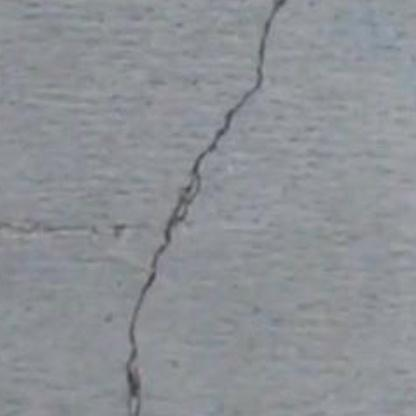Cracks: (116, 0, 333, 416)
